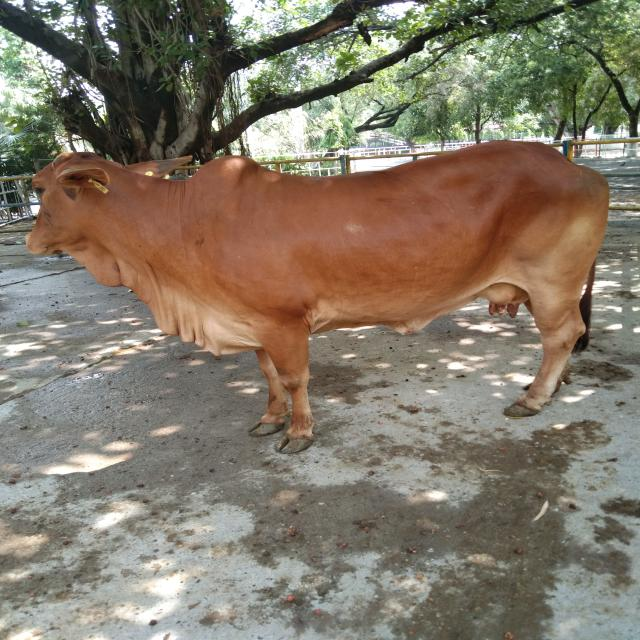Hoof: (274, 432, 315, 454), (502, 402, 540, 418), (248, 420, 285, 436)
